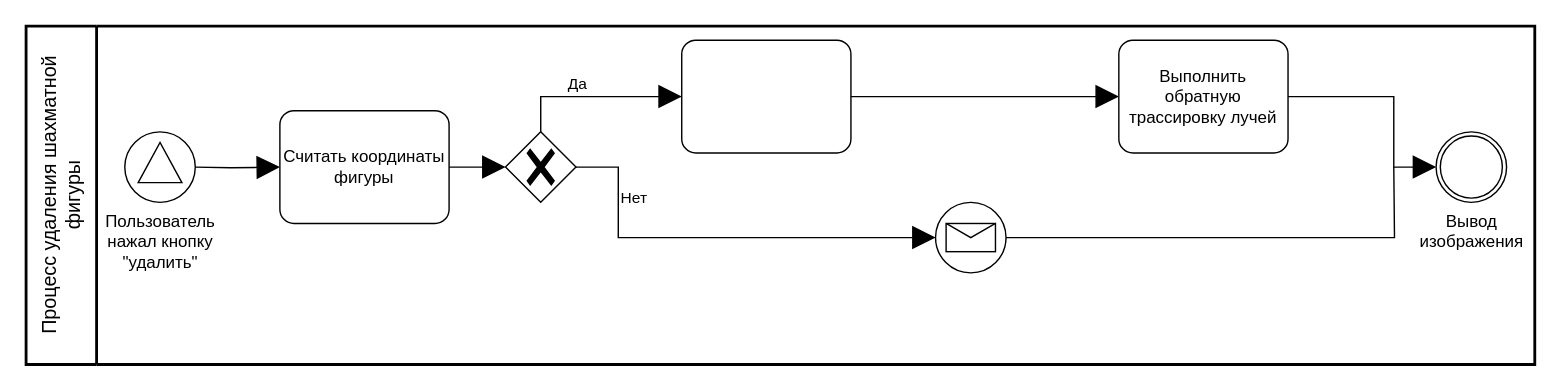
The diagram is 1559 pixels wide and 389 high, and some of its shapes have lost their labels. Each missing label, with the centre of its shape:
"Отправить пользователю сообщение об ошибке" belongs at (x=970, y=237).
"Удалить фигуру из KD-дерева" belongs at (x=765, y=96).
"Фигура есть на сцене?" belongs at (x=540, y=166).
